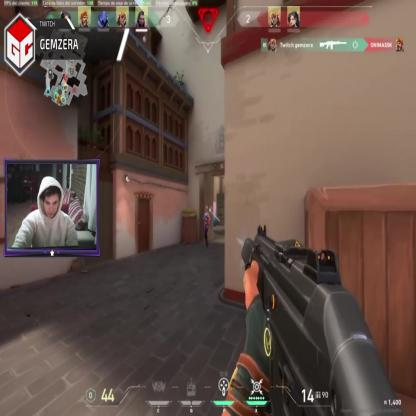enemy: (202, 204, 210, 246)
enemy_head: (205, 206, 208, 213)
